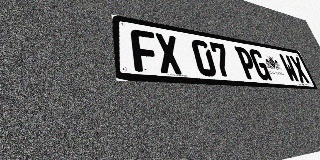0: (190, 39, 218, 77)
7: (208, 42, 235, 78)
F: (130, 28, 160, 73)
G: (248, 48, 272, 81)
P: (234, 46, 259, 80)
W: (278, 54, 301, 83)
X: (154, 33, 183, 75), (289, 55, 310, 83)
